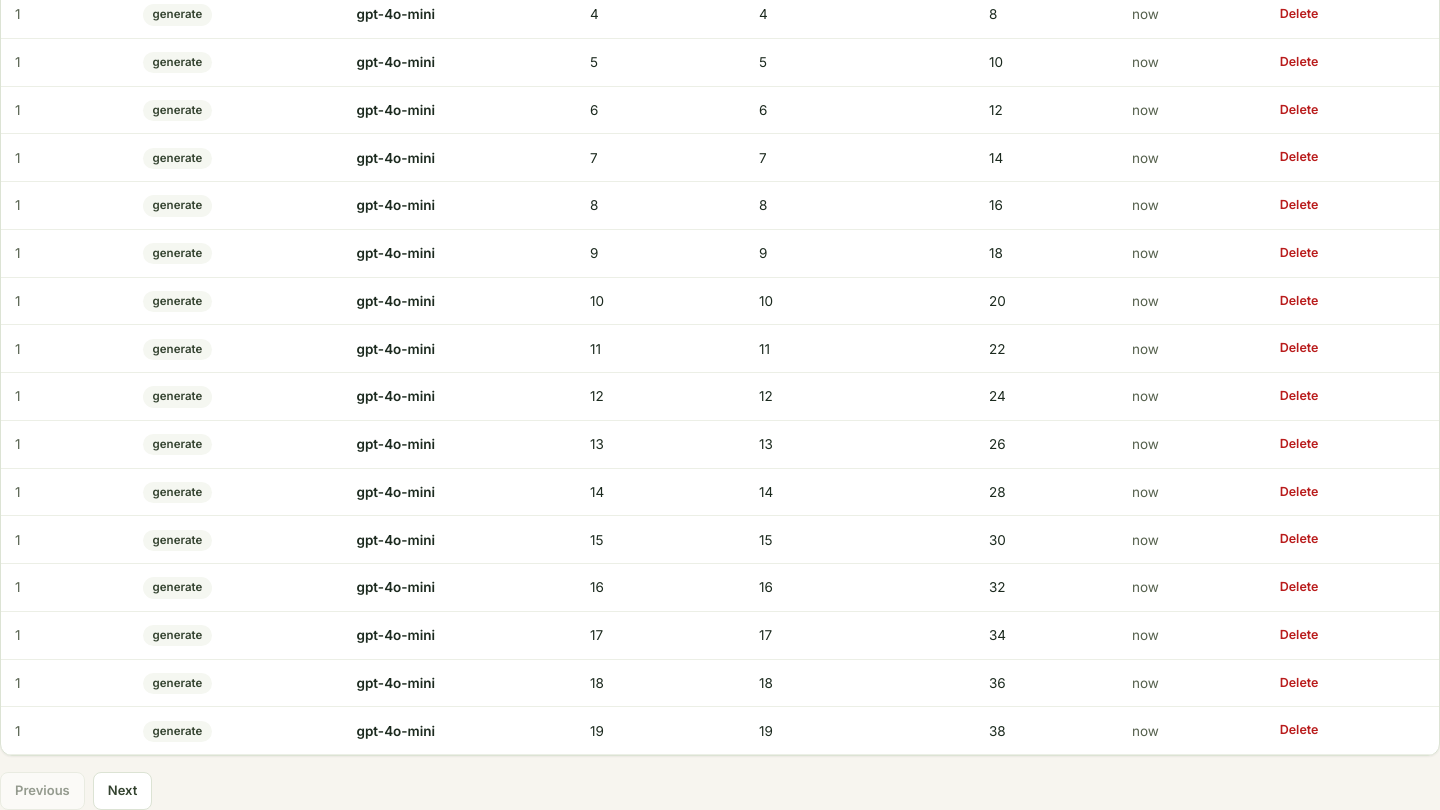
Test case: UsagePage › requests the next page with an incremented offset
(page scrolled)
Click the button "Next".
click(123, 791)  # box x1=93 y1=772 x2=152 y2=809
(page scrolled)
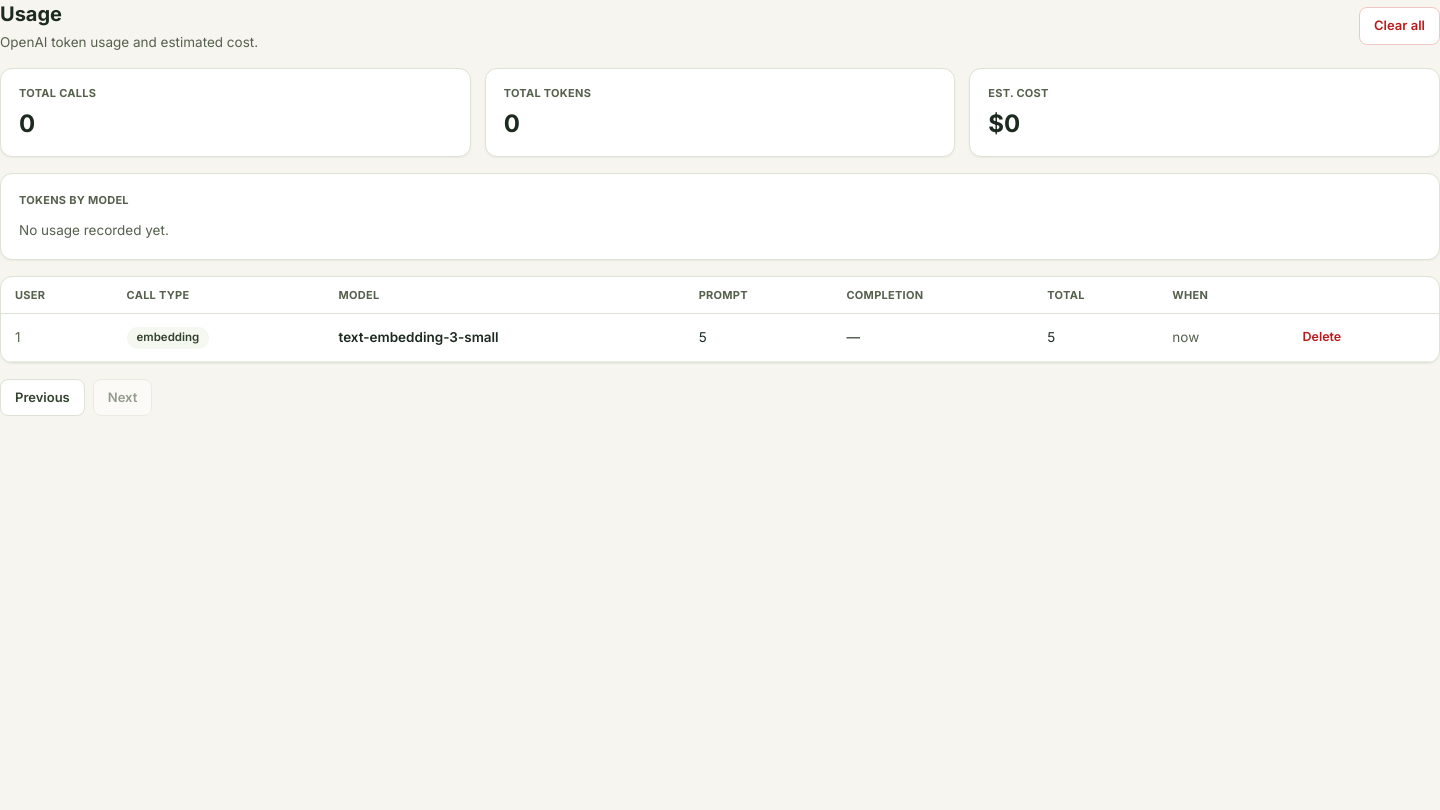
Expected: the text "embedding" is shown, x1=126 y1=327 x2=209 y2=349
